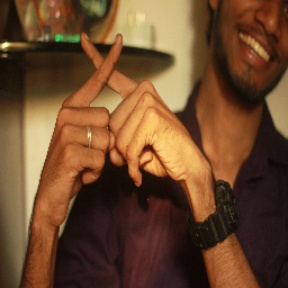X: (52, 28, 171, 134)
